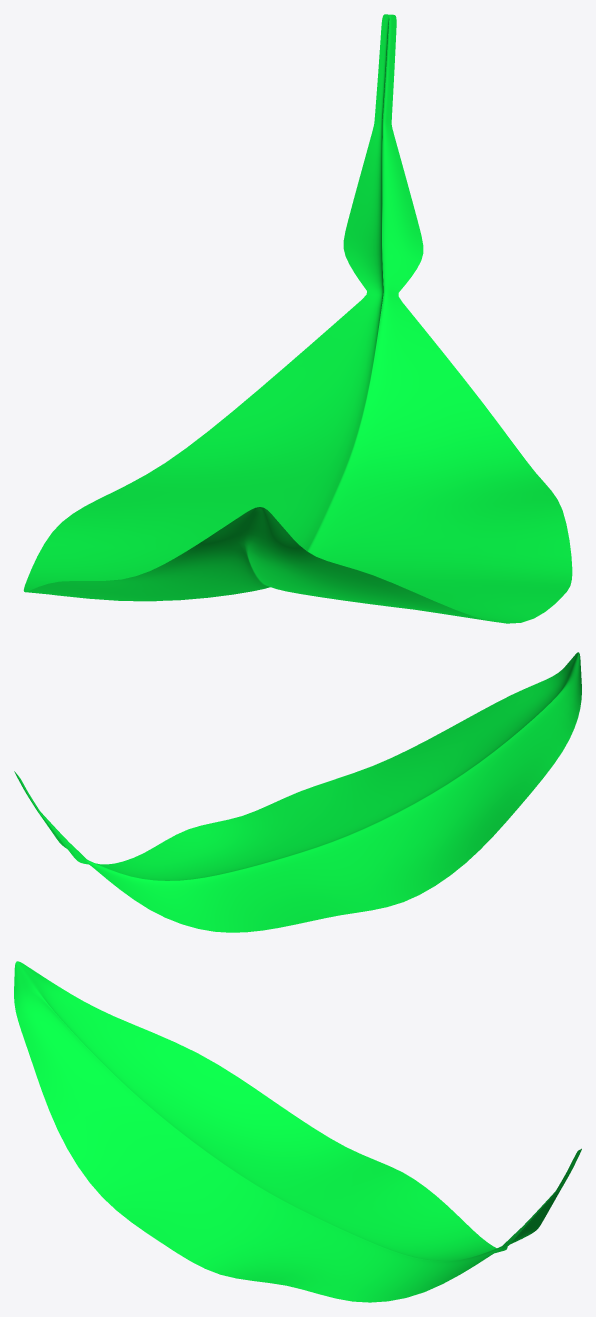
Rendered from leaf.dae.
3 renders of one model, top to bottom at view 1: azimuth 30°, elevation 25°; view 2: azimuth 150°, elevation 25°; view 3: azimuth 270°, elevation 25°, orthographic. The views are drawn at different scales.
Visible parts, largest first — view 1: leaf; view 2: leaf; view 3: leaf.
Part boxes in pixels (x1,y1,x2,y2): leaf: (23, 14, 572, 623); leaf: (14, 652, 581, 932); leaf: (14, 961, 581, 1302).
Size of the model in its own units: 0.4793 by 0.2239 by 0.6095.
